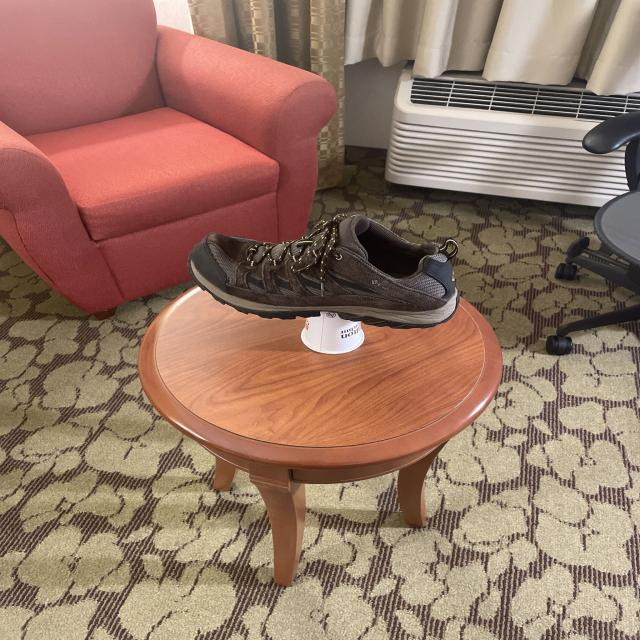shoe: (188, 213, 462, 331)
